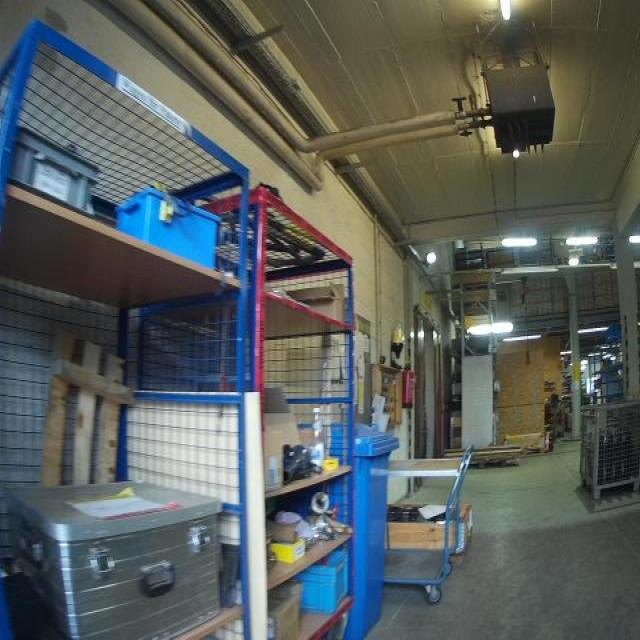small_load_carrier: (6, 118, 100, 222), (116, 185, 223, 275), (291, 547, 350, 616)
stillage: (576, 400, 639, 504)
